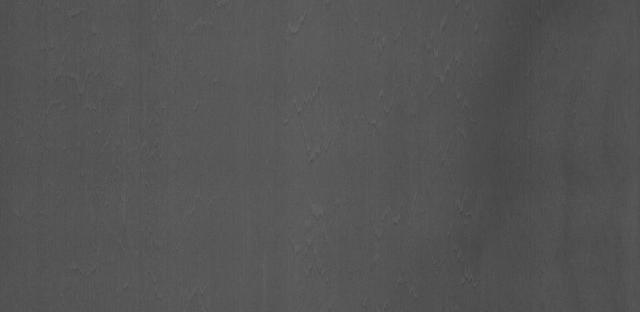silk_spot: (282, 92, 445, 170), (383, 22, 478, 88)
